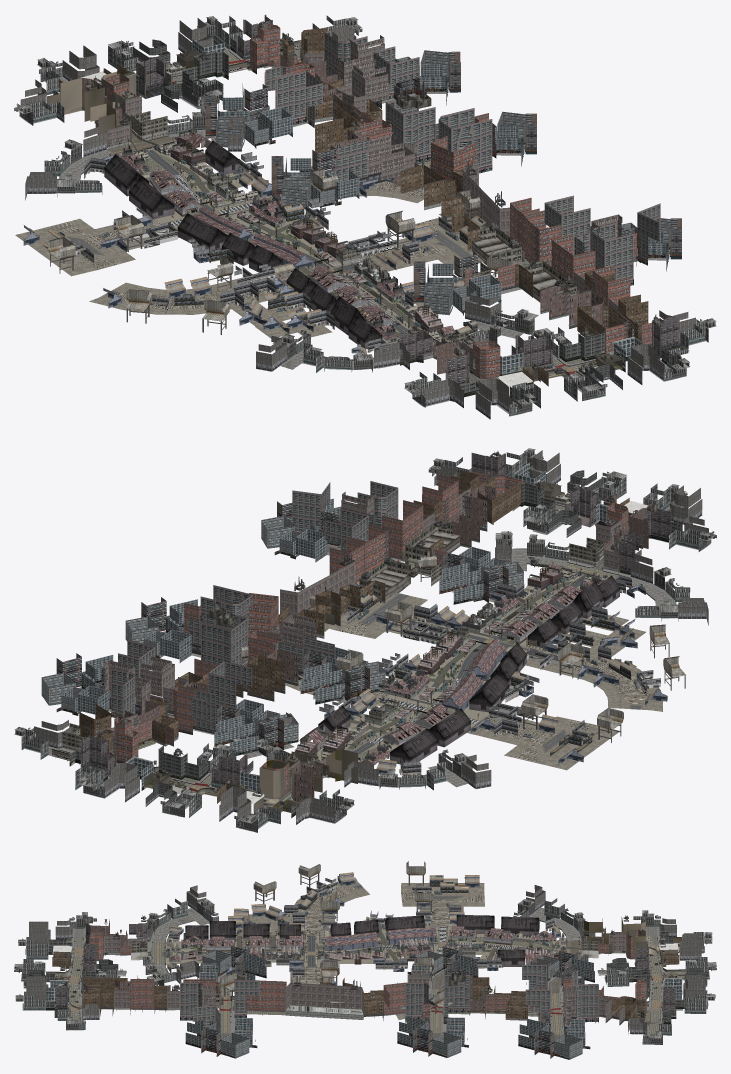
File: city-compressed.glb
3 renders of one model, top to bottom at view 1: azimuth 30°, elevation 25°; view 2: azimuth 150°, elevation 25°; view 3: azimuth 270°, elevation 25°, orthographic. The views are drawn at different scales.
Visible parts, largest first — view 1: backdrop_grp_003_mdl_001_sub_000_material_099_0, backdrop_grp_001_mdl_001_sub_000_material_098_0, backdrop_grp_000_mdl_001_sub_000_material_097_0, unit_020_sub_000_material_083_0, unit_000_sub_044_material_044_0, unit_015_sub_036_material_073_0, unit_000_sub_043_material_043_0, unit_000_sub_008_material_008_0, unit_000_sub_013_material_013_0, unit_000_sub_037_material_037_0, backdrop_grp_007_mdl_001_sub_000_material_100_0, unit_000_sub_041_material_041_0 (+16 smaller); view 2: backdrop_grp_003_mdl_001_sub_000_material_099_0, backdrop_grp_001_mdl_001_sub_000_material_098_0, backdrop_grp_000_mdl_001_sub_000_material_097_0, unit_020_sub_000_material_083_0, unit_000_sub_044_material_044_0, unit_015_sub_036_material_073_0, unit_000_sub_043_material_043_0, unit_000_sub_008_material_008_0, unit_000_sub_013_material_013_0, unit_000_sub_037_material_037_0, unit_000_sub_041_material_041_0, backdrop_grp_007_mdl_001_sub_000_material_100_0 (+15 smaller); view 3: backdrop_grp_001_mdl_001_sub_000_material_098_0, backdrop_grp_003_mdl_001_sub_000_material_099_0, backdrop_grp_000_mdl_001_sub_000_material_097_0, unit_020_sub_000_material_083_0, unit_000_sub_043_material_043_0, unit_000_sub_008_material_008_0, unit_000_sub_044_material_044_0, unit_015_sub_036_material_073_0, unit_000_sub_013_material_013_0, backdrop_grp_007_mdl_001_sub_000_material_100_0, unit_000_sub_037_material_037_0, unit_000_sub_007_material_007_0 (+27 smaller).
Boxes of the visible parts, x1,y1,x2,y2 form: backdrop_grp_003_mdl_001_sub_000_material_099_0: [15, 136, 512, 359]; backdrop_grp_001_mdl_001_sub_000_material_098_0: [14, 15, 716, 419]; backdrop_grp_000_mdl_001_sub_000_material_097_0: [204, 50, 681, 315]; unit_020_sub_000_material_083_0: [265, 30, 660, 280]; unit_000_sub_044_material_044_0: [105, 24, 651, 376]; unit_015_sub_036_material_073_0: [103, 28, 648, 386]; unit_000_sub_043_material_043_0: [107, 35, 626, 371]; unit_000_sub_008_material_008_0: [104, 140, 382, 349]; unit_000_sub_013_material_013_0: [120, 56, 455, 340]; unit_000_sub_037_material_037_0: [136, 14, 679, 384]; backdrop_grp_007_mdl_001_sub_000_material_100_0: [47, 50, 622, 395]; unit_000_sub_041_material_041_0: [60, 53, 603, 374]; backdrop_grp_003_mdl_001_sub_000_material_099_0: [241, 548, 685, 775]; backdrop_grp_001_mdl_001_sub_000_material_098_0: [14, 448, 716, 832]; backdrop_grp_000_mdl_001_sub_000_material_097_0: [41, 498, 523, 755]; unit_020_sub_000_material_083_0: [111, 481, 398, 730]; unit_000_sub_044_material_044_0: [114, 471, 628, 792]; unit_015_sub_036_material_073_0: [79, 470, 629, 803]; unit_000_sub_043_material_043_0: [104, 488, 621, 764]; unit_000_sub_008_material_008_0: [318, 575, 619, 764]; unit_000_sub_013_material_013_0: [110, 564, 601, 764]; unit_000_sub_037_material_037_0: [80, 453, 671, 785]; unit_000_sub_041_material_041_0: [125, 485, 648, 802]; backdrop_grp_007_mdl_001_sub_000_material_100_0: [138, 481, 632, 820]; backdrop_grp_001_mdl_001_sub_000_material_098_0: [14, 885, 716, 1044]; backdrop_grp_003_mdl_001_sub_000_material_099_0: [167, 861, 563, 1019]; backdrop_grp_000_mdl_001_sub_000_material_097_0: [185, 943, 594, 1059]; unit_020_sub_000_material_083_0: [180, 964, 598, 1031]; unit_000_sub_043_material_043_0: [104, 927, 625, 1026]; unit_000_sub_008_material_008_0: [185, 915, 539, 966]; unit_000_sub_044_material_044_0: [82, 929, 646, 1028]; unit_015_sub_036_material_073_0: [52, 949, 679, 1018]; unit_000_sub_013_material_013_0: [169, 926, 557, 963]; backdrop_grp_007_mdl_001_sub_000_material_100_0: [52, 917, 681, 1023]; unit_000_sub_037_material_037_0: [55, 922, 675, 1016]; unit_000_sub_007_material_007_0: [165, 925, 566, 969].
Size of the model in its own units: 14.65 by 2.16 by 23.9.
Materials: 100 (99 with a texture image).
